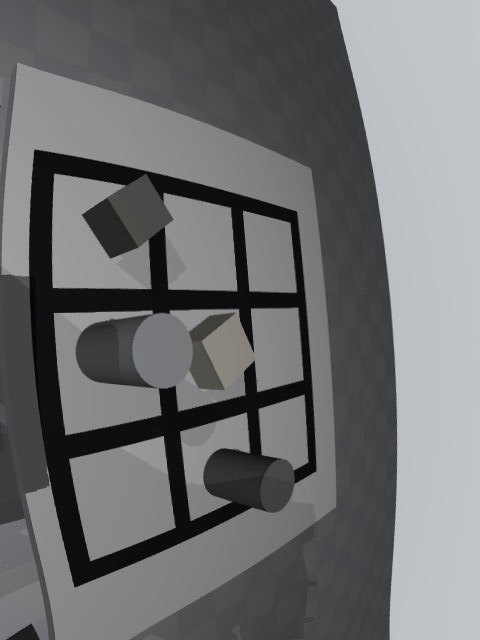can: (76, 313, 193, 389)
cube: (82, 174, 174, 258)
cylinder: (203, 448, 295, 513)
foam: (189, 313, 256, 390)
